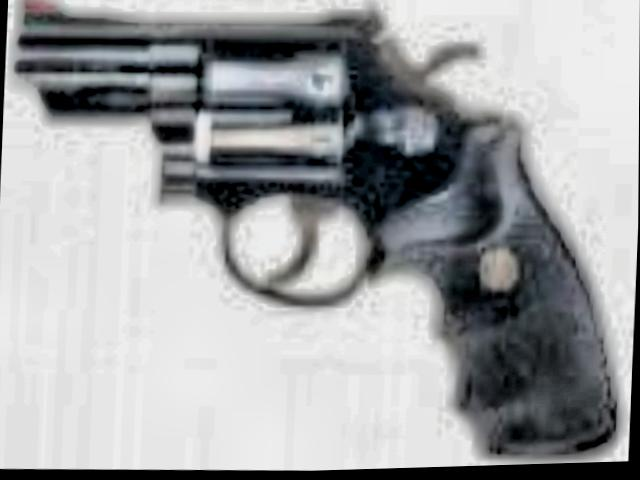pistol: (0, 0, 628, 478)
